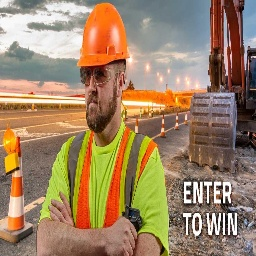helmet: (76, 2, 132, 71)
person: (52, 2, 166, 253)
vest: (55, 128, 164, 252)
